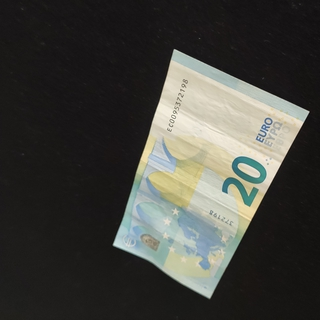20EUROBack: (111, 48, 310, 300)
